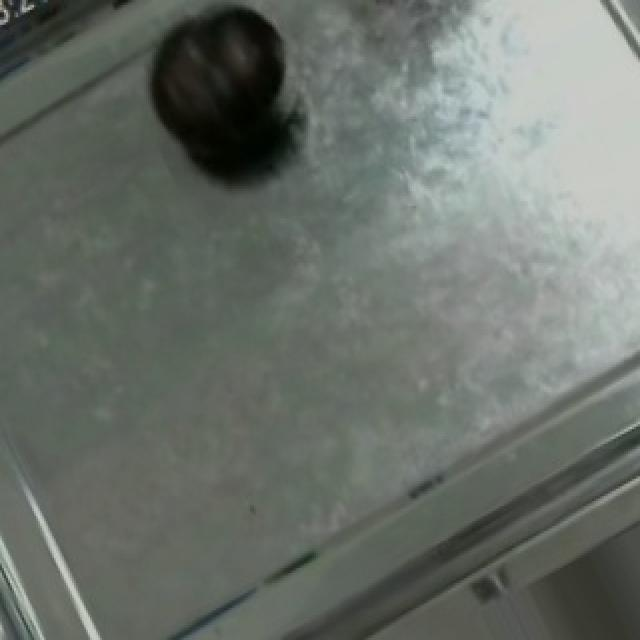Fruit: (128, 0, 308, 186)
